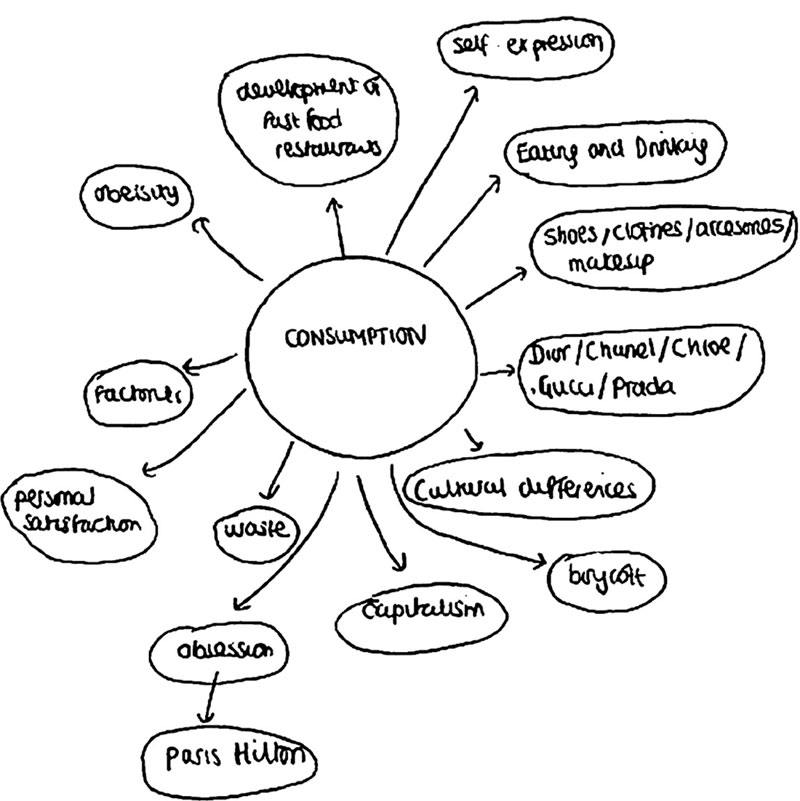circle: (244, 254, 480, 460), (216, 51, 403, 189), (528, 202, 800, 294), (516, 322, 767, 419), (401, 448, 658, 522), (501, 117, 729, 190), (1, 464, 159, 567), (140, 723, 321, 801), (333, 580, 511, 658), (434, 14, 617, 83), (147, 619, 291, 688), (76, 160, 195, 231), (80, 356, 195, 429), (545, 548, 669, 614), (211, 502, 301, 565)
line: (388, 464, 549, 573), (384, 83, 482, 259), (232, 467, 342, 613), (138, 384, 250, 479), (422, 175, 503, 271), (190, 211, 271, 286), (354, 471, 409, 572), (463, 263, 529, 311), (255, 439, 300, 502), (321, 193, 351, 259), (478, 363, 516, 383)
